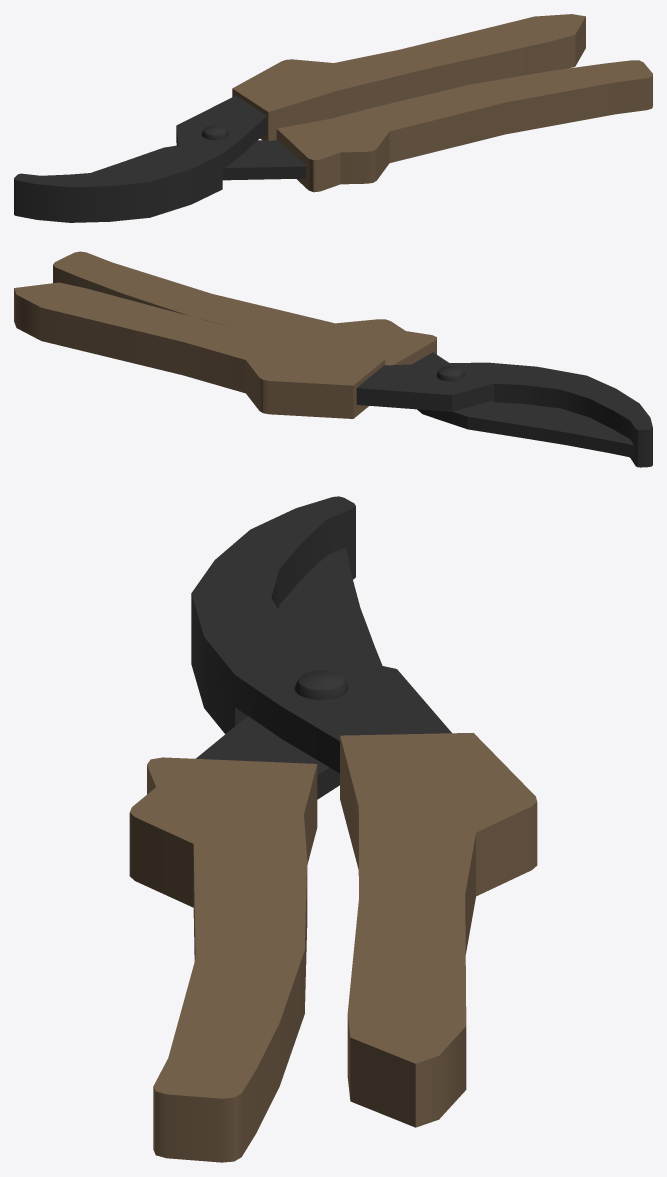
The model's file is scissors.fbx.
The picture shows the model from 3 angles, top to bottom: view 1: azimuth 30°, elevation 25°; view 2: azimuth 150°, elevation 25°; view 3: azimuth 270°, elevation 25°; orthographic projection. The views are drawn at different scales.
Parts seen in each view (by area): view 1: Scissors_Mesh; view 2: Scissors_Mesh; view 3: Scissors_Mesh.
Part boxes in pixels (left/top/right/bottom): Scissors_Mesh: left=14, top=14, right=652, bottom=222; Scissors_Mesh: left=14, top=251, right=652, bottom=467; Scissors_Mesh: left=129, top=496, right=537, bottom=1162.
Bounding box in the file's own units: 13.96 × 1.03 × 4.1.
